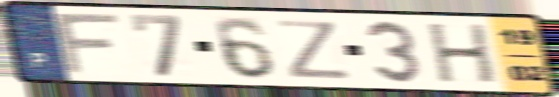3: (363, 18, 422, 85)
6: (212, 14, 278, 81)
7: (127, 13, 187, 80)
F: (52, 12, 125, 77)
H: (426, 22, 499, 86)
Z: (273, 18, 355, 81)
